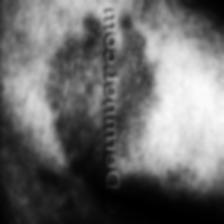Unclassified: (52, 27, 104, 164), (121, 21, 164, 167)
